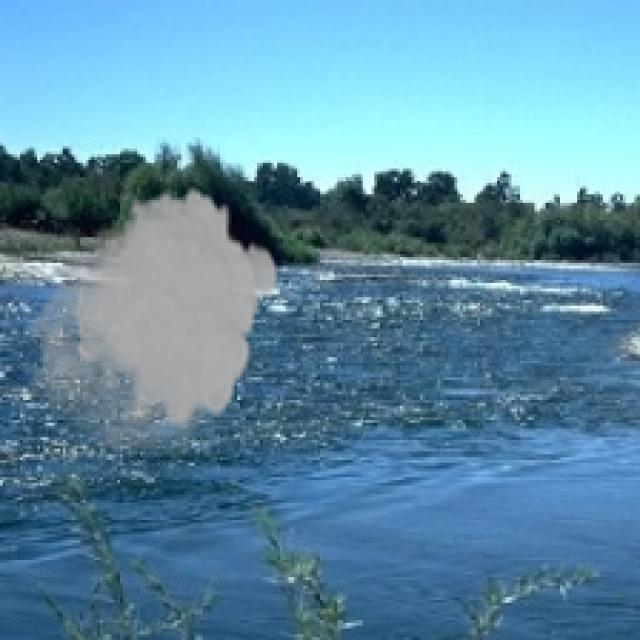smoke: (20, 183, 280, 448)
